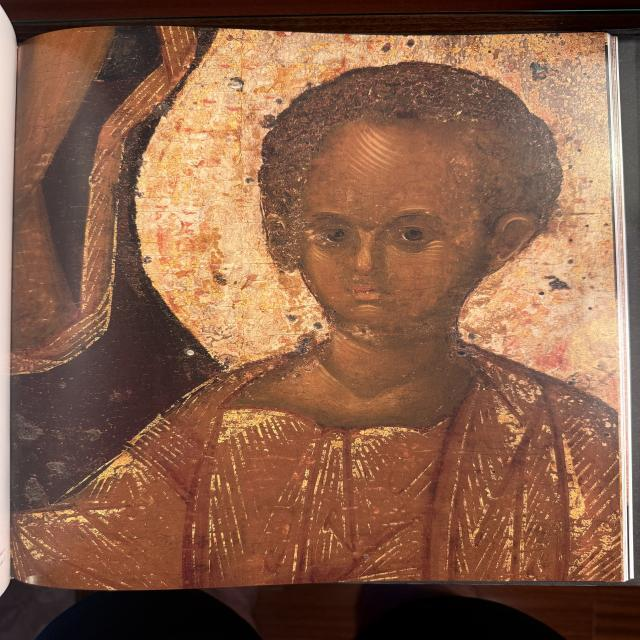christ_child: (20, 60, 622, 580)
